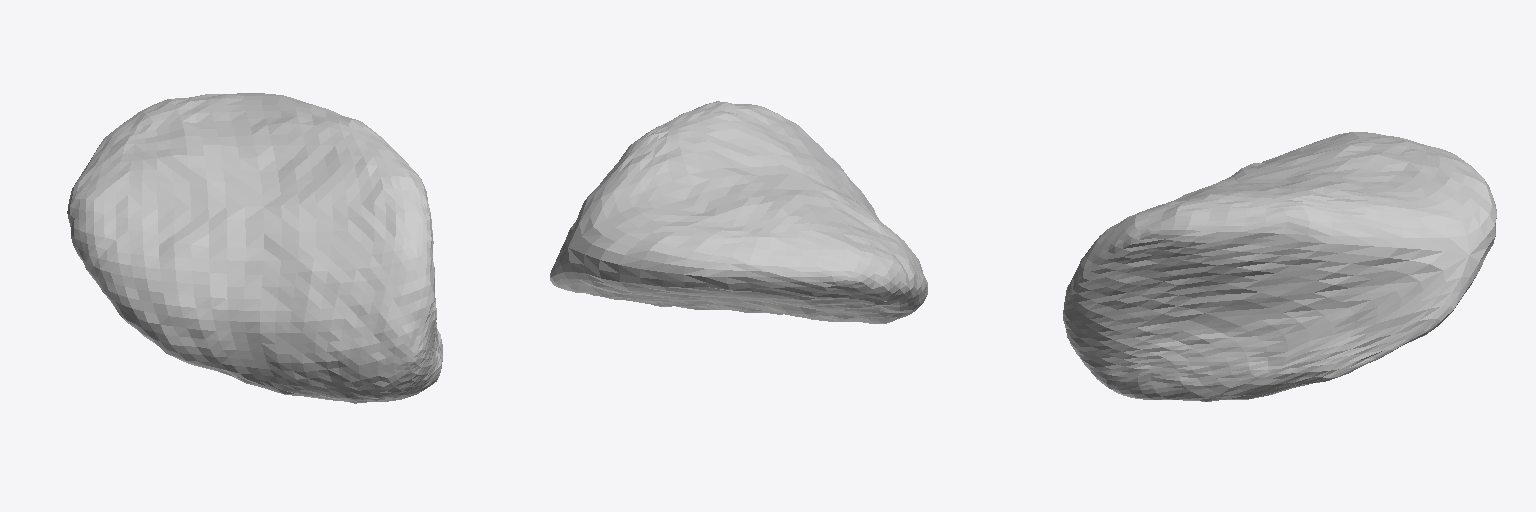
File: rock3.obj
3 views of the same model, side by side, from view 1: azimuth 30°, elevation 25°; view 2: azimuth 150°, elevation 25°; view 3: azimuth 270°, elevation 25° (orthographic).
Parts seen in each view (by area): view 1: rock; view 2: rock; view 3: rock.
Boxes of the visible parts, <box> form: rock: <box>67,93,442,403</box>; rock: <box>550,101,927,323</box>; rock: <box>1063,132,1496,401</box>.
Size of the model in its own units: 2.01 by 1.29 by 2.45.